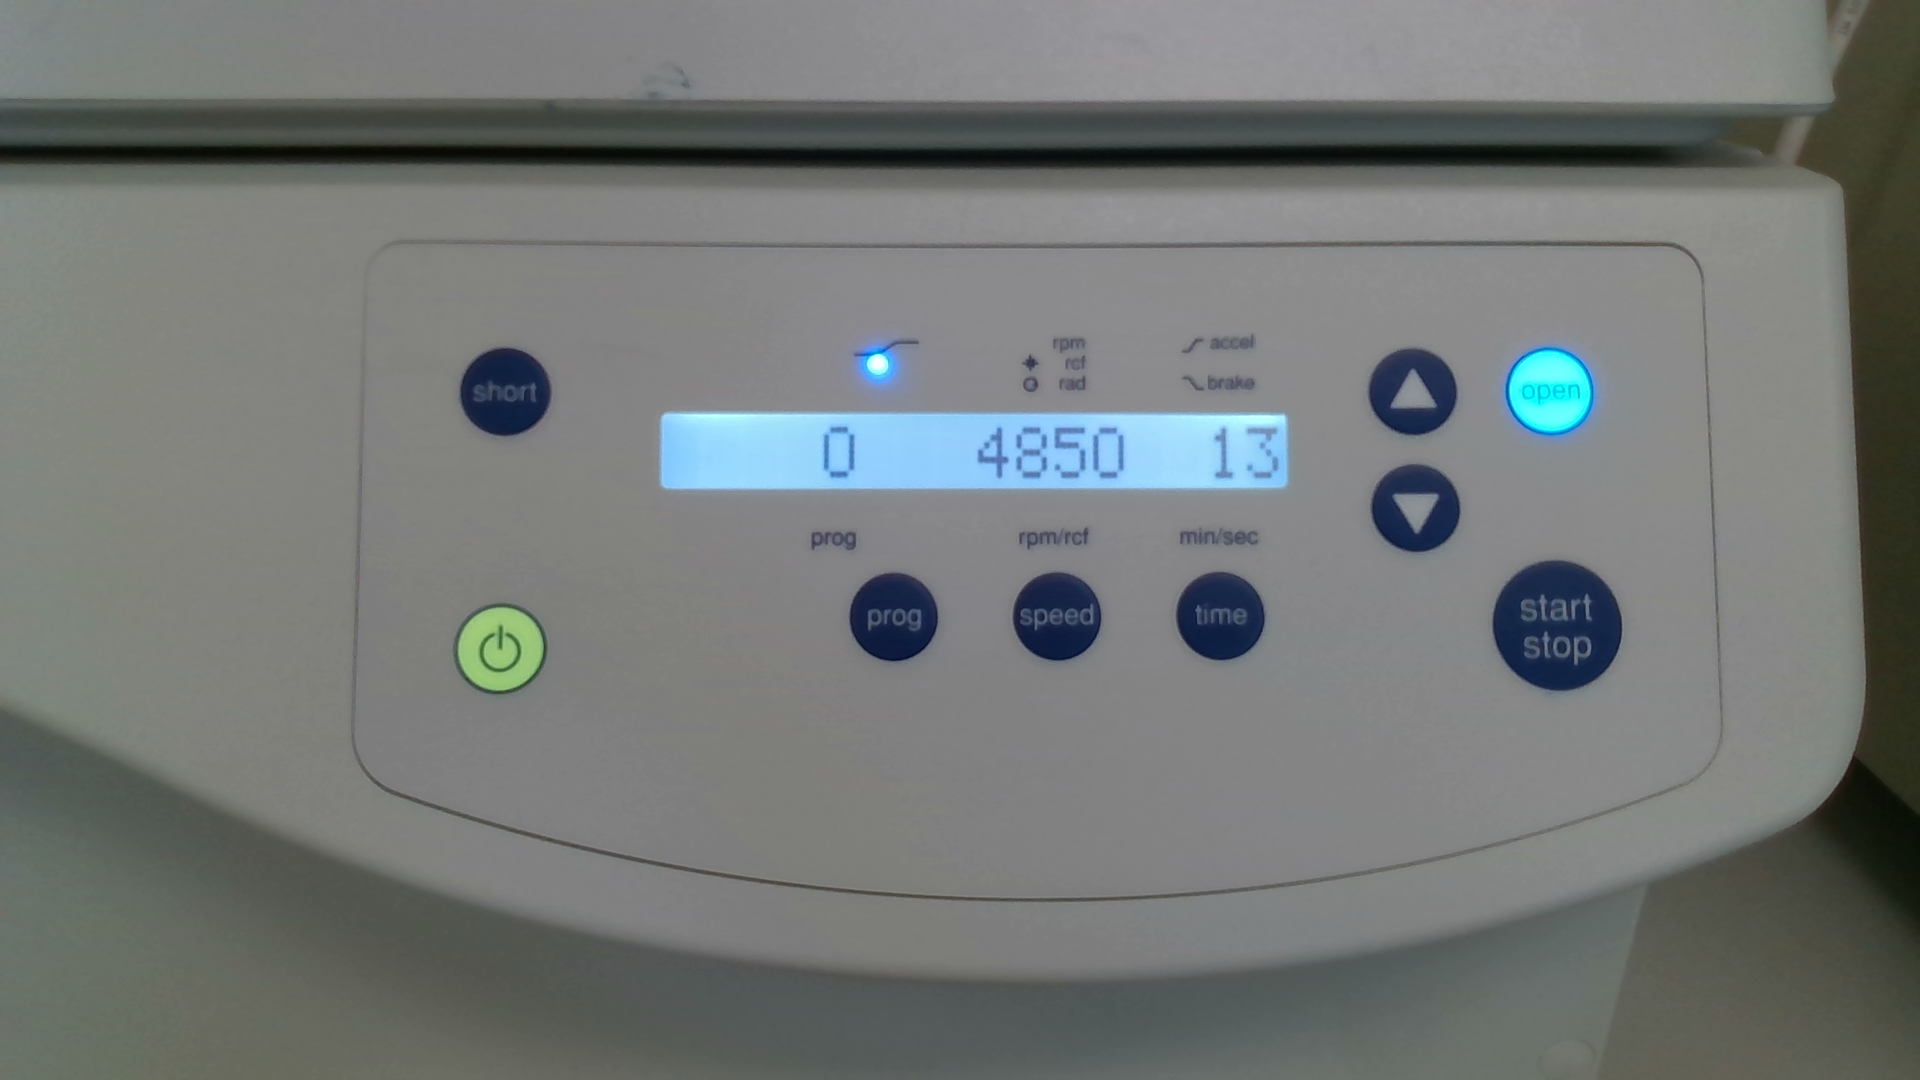0: (824, 427, 855, 477), (1093, 427, 1124, 477)
1: (1215, 429, 1232, 477)
3: (1247, 429, 1278, 479)
4: (978, 427, 1007, 477)
5: (1055, 427, 1085, 477)
8: (1017, 427, 1047, 477)
open_on: (1505, 345, 1596, 436)
power_on: (454, 603, 547, 696)
